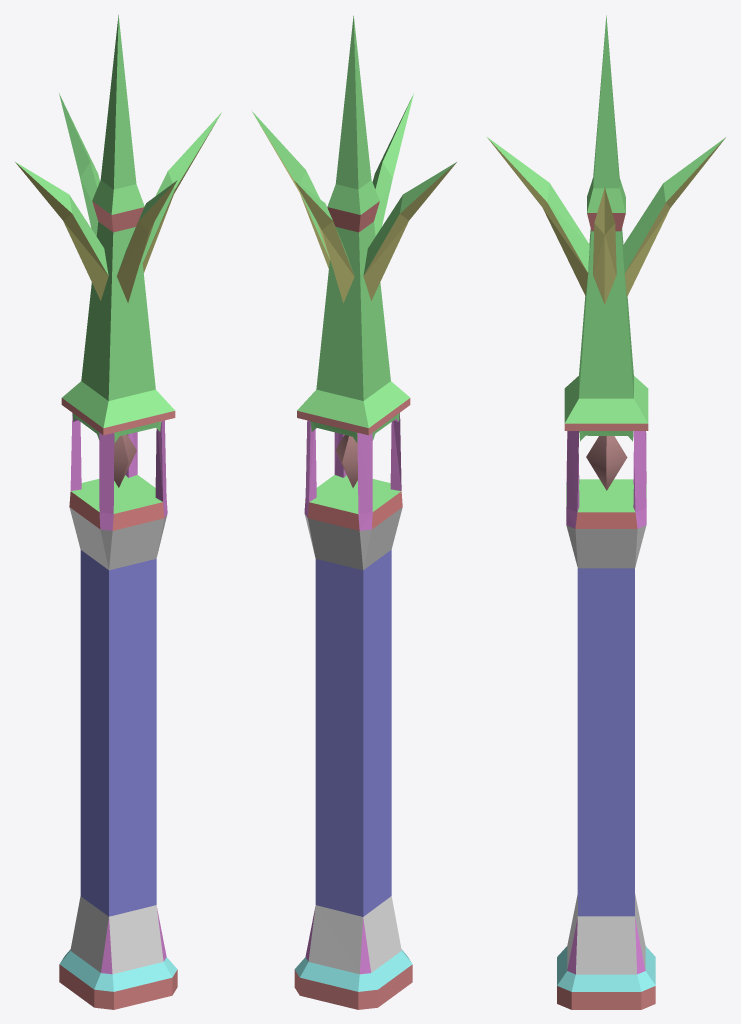
Rendered from O_DE_Lamp01.gltf.
3 renders of one model, left to right at view 1: azimuth 30°, elevation 25°; view 2: azimuth 150°, elevation 25°; view 3: azimuth 270°, elevation 25°, orthographic.
Parts seen in each view (by area): view 1: O_DE_Lamp01; view 2: O_DE_Lamp01; view 3: O_DE_Lamp01.
Part boxes in pixels (x1,y1,x2,y2): O_DE_Lamp01: (15,15,221,1009); O_DE_Lamp01: (251,15,456,1009); O_DE_Lamp01: (486,15,725,1009).
Bounding box in the file's own units: 0.6259 × 2.8 × 0.6263.
